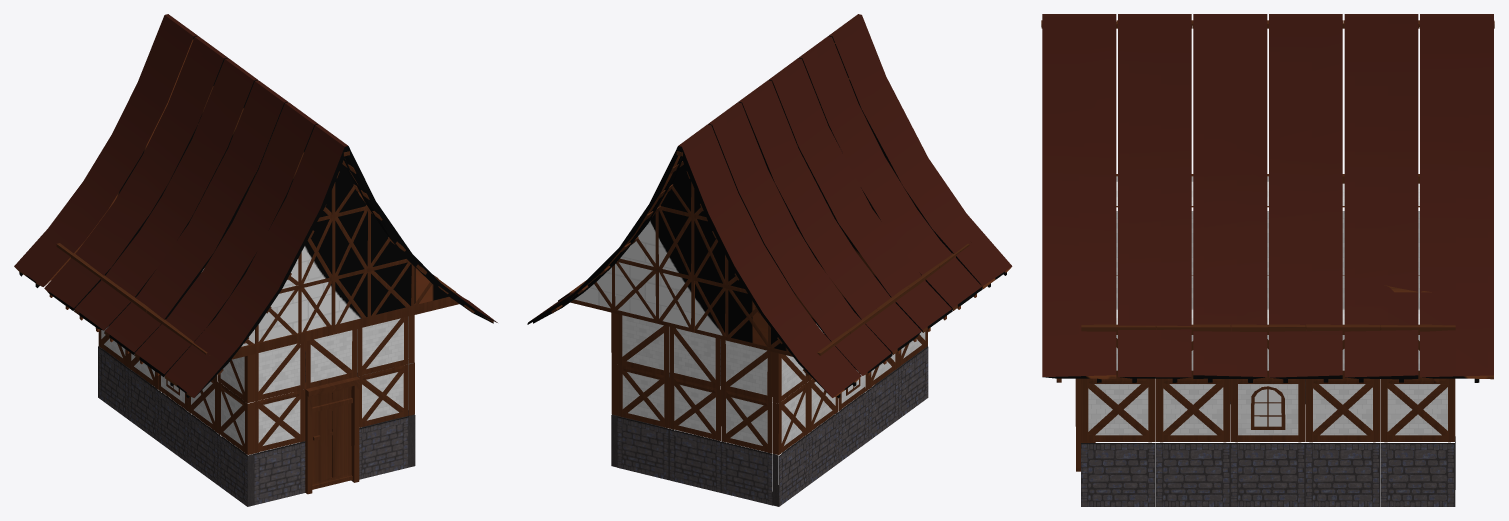
The model's file is House1_LOD3.fbx.
3 renders of one model, left to right at view 1: azimuth 30°, elevation 25°; view 2: azimuth 150°, elevation 25°; view 3: azimuth 270°, elevation 25°, orthographic. The views are drawn at different scales.
Parts seen in each view (by area): view 1: House1_LOD3; view 2: House1_LOD3; view 3: House1_LOD3.
Part boxes in pixels (x1,y1,x2,y2): House1_LOD3: (14,14,497,506); House1_LOD3: (527,14,1012,506); House1_LOD3: (1041,14,1494,506).
Size of the model in its own units: 1250 by 1375 by 1282.
